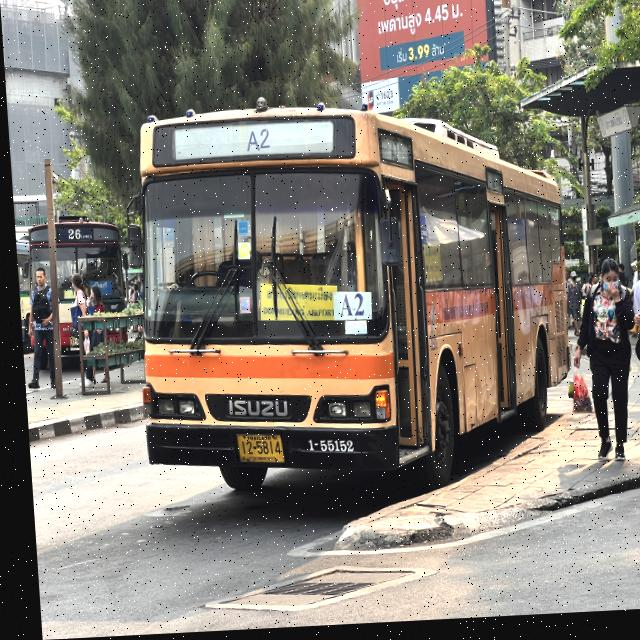BMTA-bus: (118, 83, 575, 507)
Bus-Line-Number: (236, 128, 275, 155)
Destination-Sign-Normal-Expressway: (256, 283, 335, 324)
